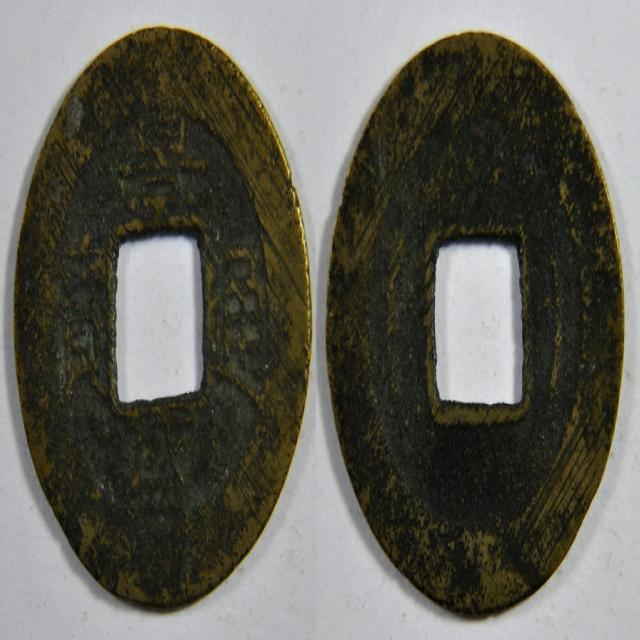Coin: (12, 16, 313, 615), (327, 30, 626, 615)
